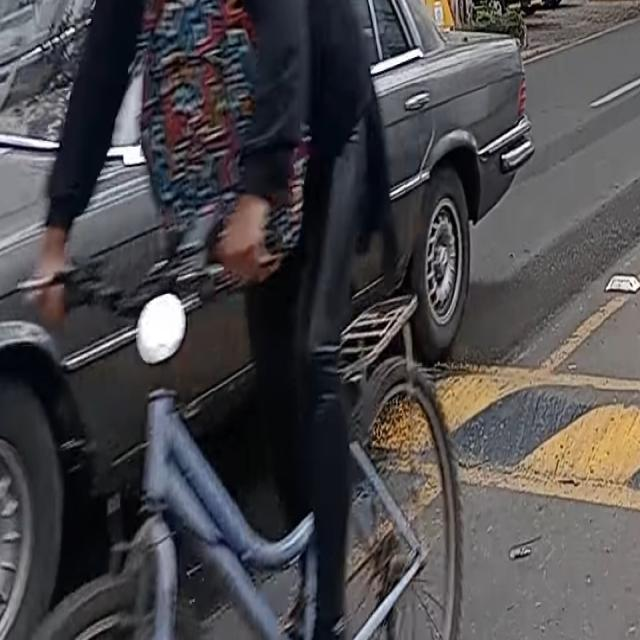bicycle: (0, 231, 473, 640)
car: (0, 0, 531, 591)
